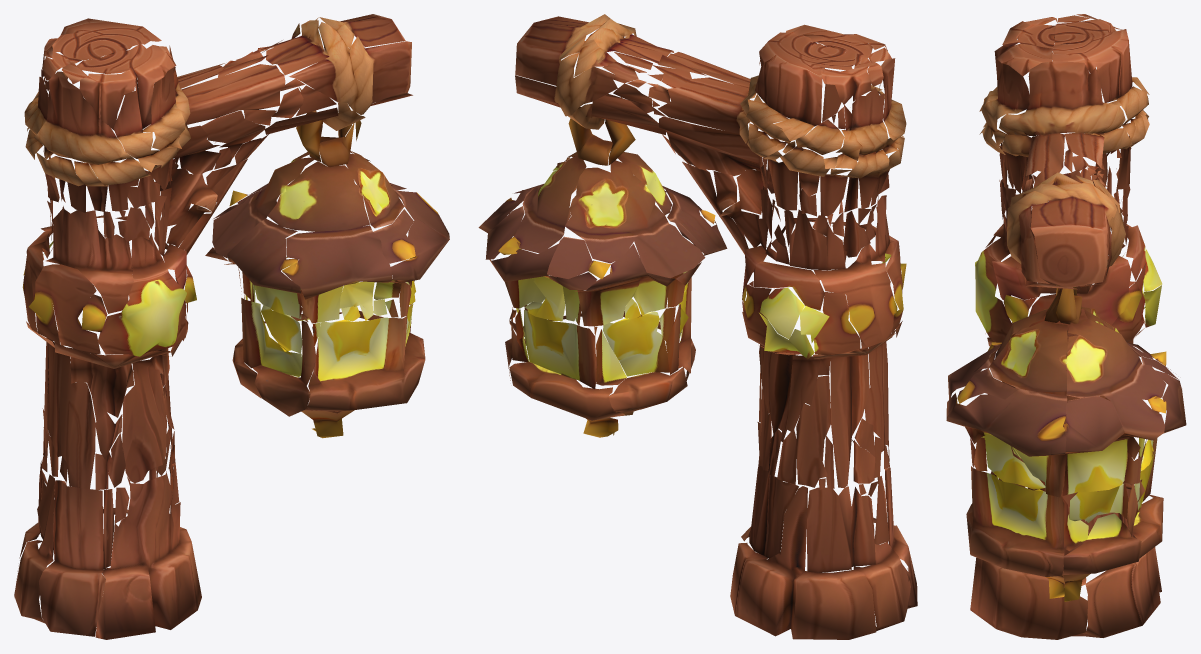
The model's file is prop_lamp_post.glb.
The picture shows the model from 3 angles, left to right: view 1: azimuth 30°, elevation 25°; view 2: azimuth 150°, elevation 25°; view 3: azimuth 270°, elevation 25°; orthographic projection. The views are drawn at different scales.
Parts seen in each view (by area): view 1: Prop; view 2: Prop; view 3: Prop.
Boxes of the visible parts, bbox=[...] form: Prop: bbox=[14, 14, 449, 639]; Prop: bbox=[478, 14, 917, 639]; Prop: bbox=[946, 14, 1186, 639].
Bounding box in the file's own units: 0.7688 × 0.9996 × 0.381.
Materials: 1 (1 with a texture image).
